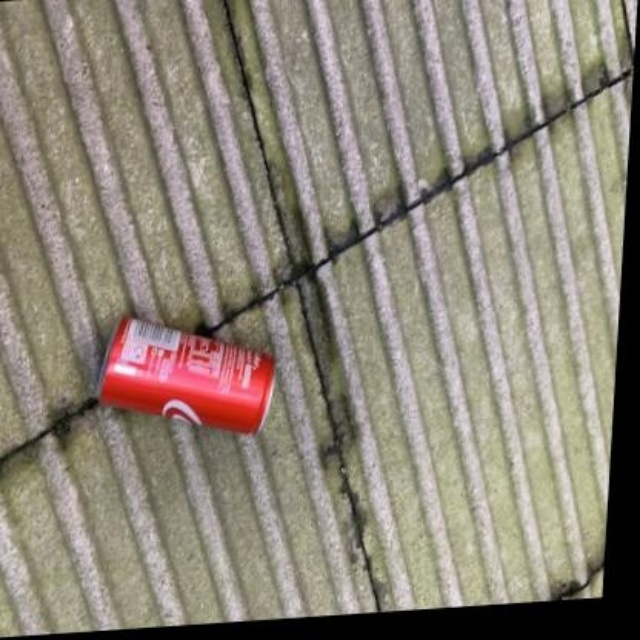trash: (100, 317, 272, 434)
